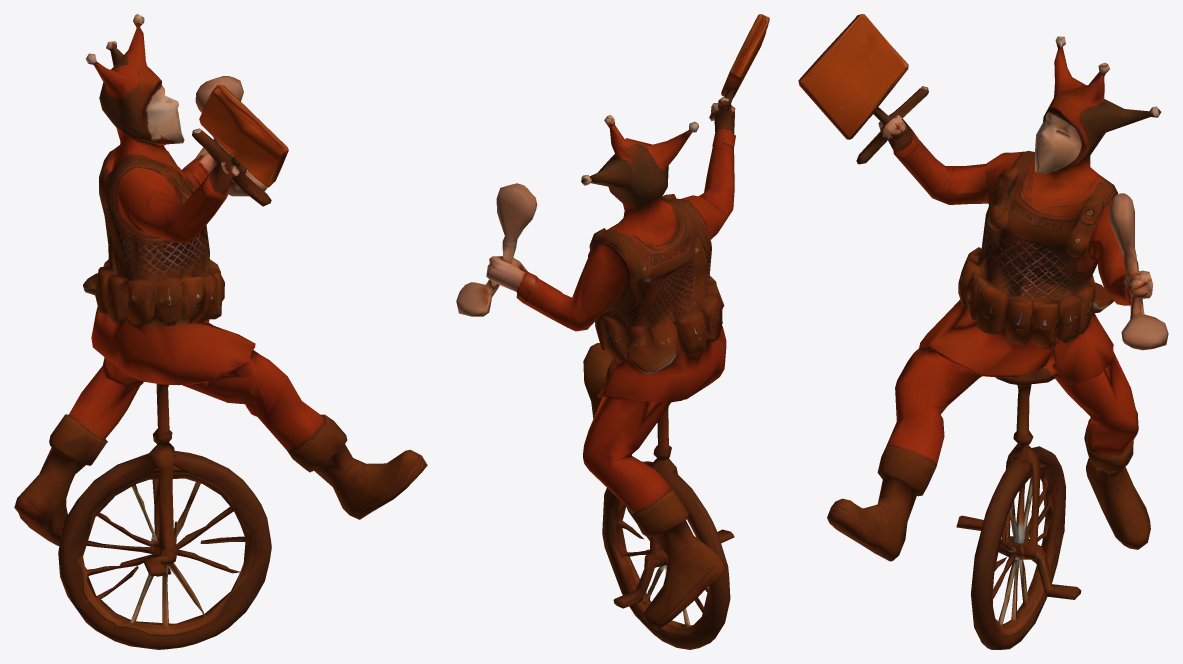
The picture shows the model from 3 angles, left to right: view 1: azimuth 30°, elevation 25°; view 2: azimuth 150°, elevation 25°; view 3: azimuth 270°, elevation 25°; orthographic projection. The views are drawn at different scales.
Parts seen in each view (by area): view 1: tripo_node_5190a719-70f1-4302-b8b7-1ebd6cc12aa9; view 2: tripo_node_5190a719-70f1-4302-b8b7-1ebd6cc12aa9; view 3: tripo_node_5190a719-70f1-4302-b8b7-1ebd6cc12aa9.
Part boxes in pixels (x1,y1,x2,y2): tripo_node_5190a719-70f1-4302-b8b7-1ebd6cc12aa9: (14, 14, 427, 649); tripo_node_5190a719-70f1-4302-b8b7-1ebd6cc12aa9: (456, 14, 769, 649); tripo_node_5190a719-70f1-4302-b8b7-1ebd6cc12aa9: (798, 14, 1168, 649).
Size of the model in its own units: 0.4666 by 0.9997 by 0.543.
Materials: 1 (1 with a texture image).
